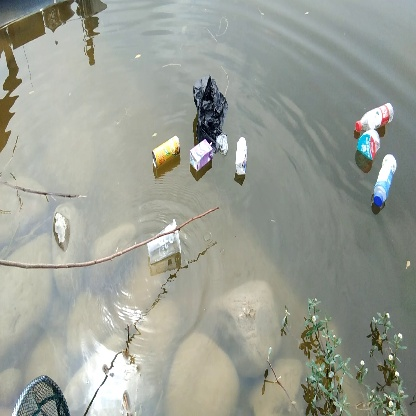bottle: (145, 218, 186, 265), (354, 95, 399, 132), (370, 154, 400, 208), (150, 135, 182, 169), (356, 130, 382, 158)
milk-box: (189, 138, 215, 174), (233, 136, 250, 176)
